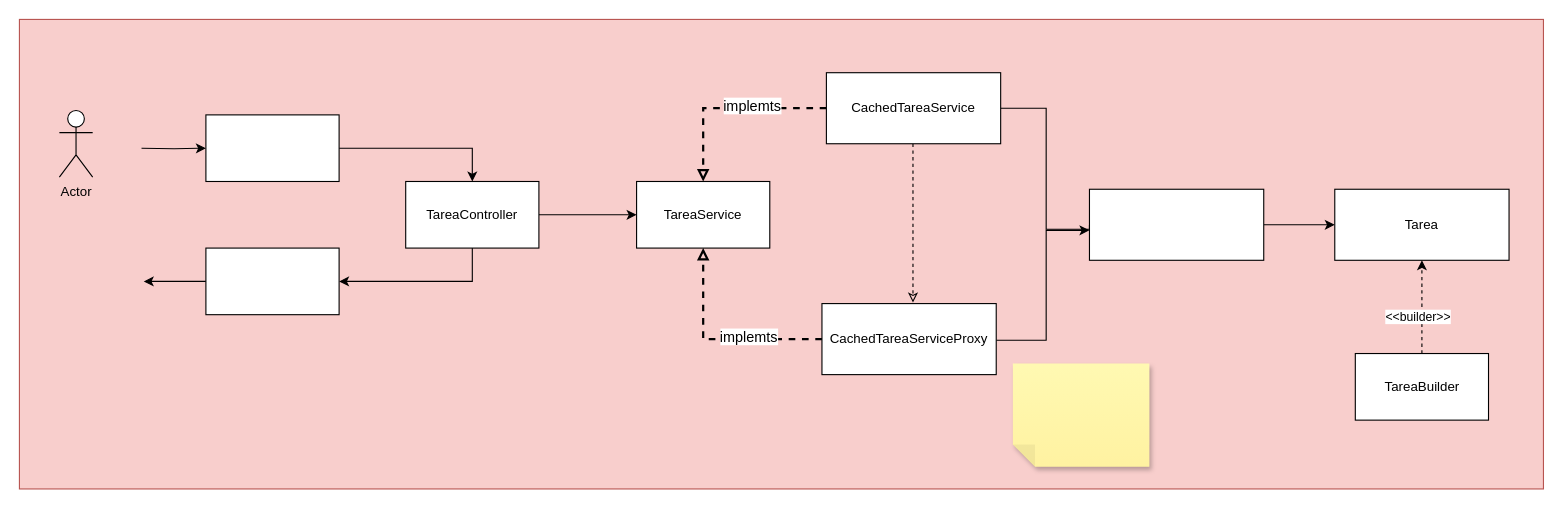
Some shapes in this 1563 by 508 pixel diagram are drawn without their labels. Here are the shapes that lost their labels. From the top down, the centre of each, then its label:
the point at 272,147: TareaRequest
the point at 1176,224: TareaRepository
the point at 272,281: TareaResponse
the point at 1082,416: Verifica si esta en cache
